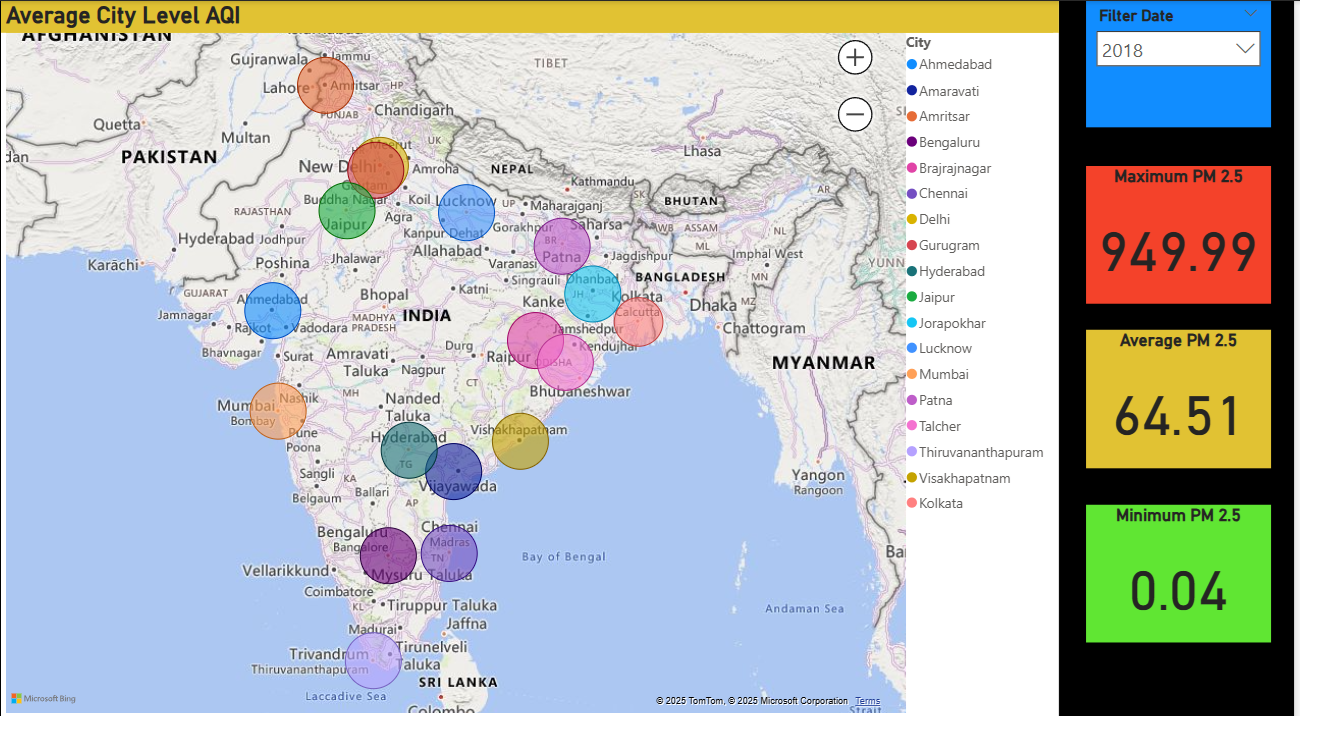

The page's visual inventory and layout, read from the dashboard file:
{"tool":"powerbi","page":{"name":"Geographical AQI","canvas":[1280,720],"ordinal":1},"visuals":[{"type":"map","title":"Average City Level AQI","fields":{"Category":["city_day_with_coordinates.City"],"Size":["CountNonNull(city_day_with_coordinates.AQI_Bucket)"],"Series":["city_day_with_coordinates.City"]},"box":[9.8,0,1038,704.3],"z":0},{"type":"slicer","fields":{"Values":["city_day_with_coordinates.Date.Variation.Date Hierarchy.Year","city_day_with_coordinates.Date.Variation.Date Hierarchy.Quarter"]},"box":[1074.9,0,181.6,123.9],"z":1000},{"type":"card","title":"Maximum PM 2.5","fields":{"Values":["Max(city_day_with_coordinates.PM2.5)"]},"box":[1074.9,162,181.6,135],"z":2000},{"type":"card","title":"Average PM 2.5","fields":{"Values":["Avg(city_day_with_coordinates.PM2.5)"]},"box":[1074.9,322.7,181.6,136.2],"z":3000},{"type":"card","title":"Minimum PM 2.5","fields":{"Values":["Min(city_day_with_coordinates.PM2.5)"]},"box":[1074.9,494.5,181.6,135],"z":4000}]}

Visuals, with their boxes in screenshot pixels (x1, y1, x2, y2), scaled from the page's 1280x720 canvas onto the 1322x748 screenshot:
"Average City Level AQI" map: bbox(10, 0, 1082, 732)
slicer - city_day_with_coordinates.Date.Variation.Date Hierarchy.Year x city_day_with_coordinates.Date.Variation.Date Hierarchy.Quarter: bbox(1110, 0, 1298, 129)
"Maximum PM 2.5" card: bbox(1110, 168, 1298, 309)
"Average PM 2.5" card: bbox(1110, 335, 1298, 477)
"Minimum PM 2.5" card: bbox(1110, 514, 1298, 654)
